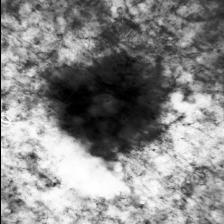Potentially Malignant Skin Tumors: (45, 47, 163, 155)
